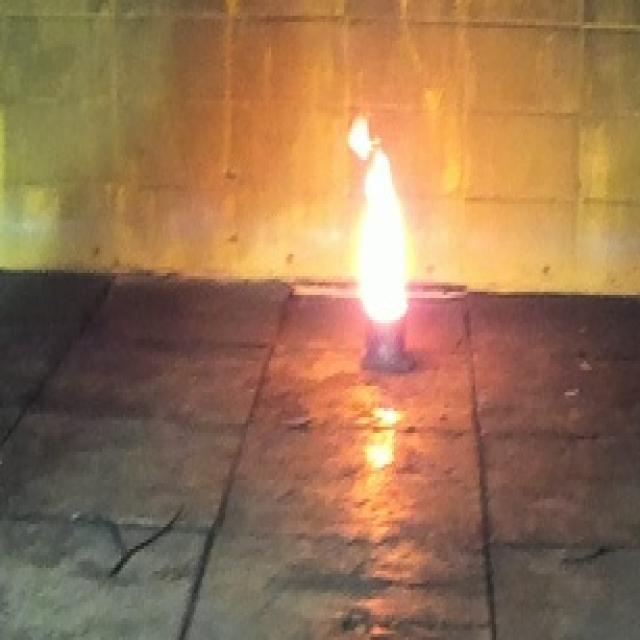Fire: (348, 110, 408, 323)
